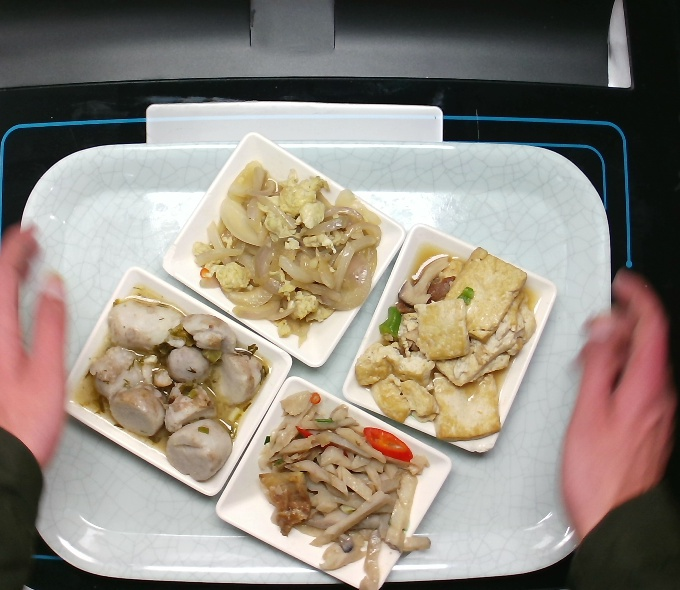wcq-JiaChangDouFu: (350, 247, 539, 446)
wcq-QingChaoOuPian: (251, 388, 431, 587)
wcq-YangCongChaoDan: (184, 157, 387, 347)
wcq-YangYu: (84, 289, 269, 488)
